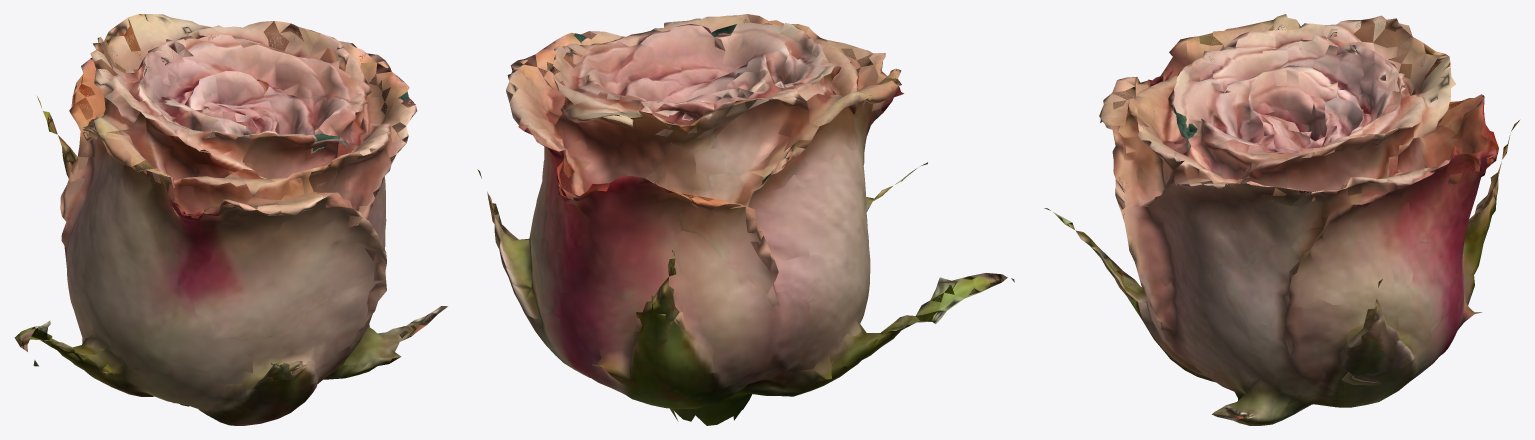
3 renders of one model, left to right at view 1: azimuth 30°, elevation 25°; view 2: azimuth 150°, elevation 25°; view 3: azimuth 270°, elevation 25°, orthographic. The views are drawn at different scales.
Visible parts, largest first — view 1: d9610876; view 2: d9610876; view 3: d9610876.
Part boxes in pixels (bbox=[...]): d9610876: bbox=[14, 14, 447, 425]; d9610876: bbox=[477, 14, 1014, 425]; d9610876: bbox=[1044, 14, 1519, 425].
Bounding box in the file's own units: 0.0869 × 0.0673 × 0.0852.
1 material, 1 textured.
